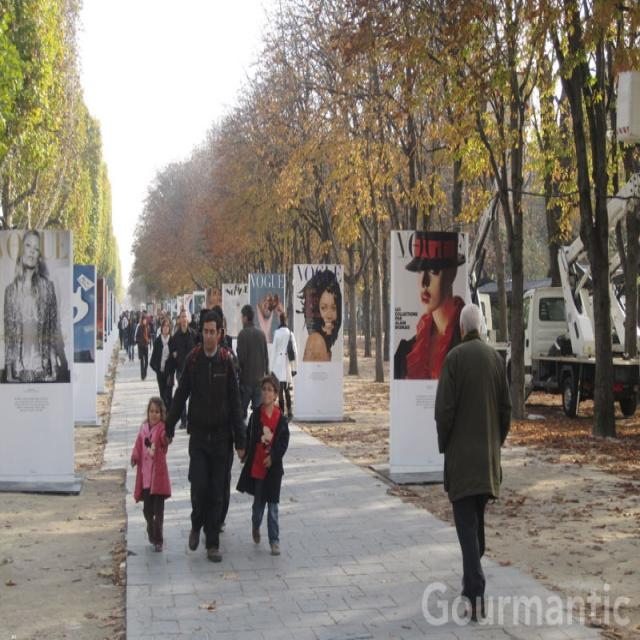body: (430, 299, 516, 628), (164, 309, 247, 563), (393, 228, 466, 380), (234, 369, 292, 557), (1, 232, 61, 383), (130, 395, 173, 554), (234, 302, 270, 422), (298, 268, 343, 362), (170, 307, 198, 429), (269, 310, 299, 422), (149, 316, 176, 414), (211, 303, 236, 357), (135, 313, 150, 383), (186, 310, 198, 354), (126, 314, 135, 364), (122, 306, 170, 315), (219, 312, 231, 346), (147, 314, 156, 352), (120, 311, 127, 354), (116, 314, 123, 348), (134, 314, 143, 340), (155, 316, 163, 340), (170, 314, 180, 332), (195, 295, 206, 304)
